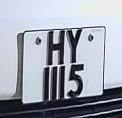1: (42, 64, 58, 102), (50, 63, 65, 103)
5: (66, 63, 90, 98)
H: (45, 28, 66, 68)
Y: (63, 25, 89, 67)
